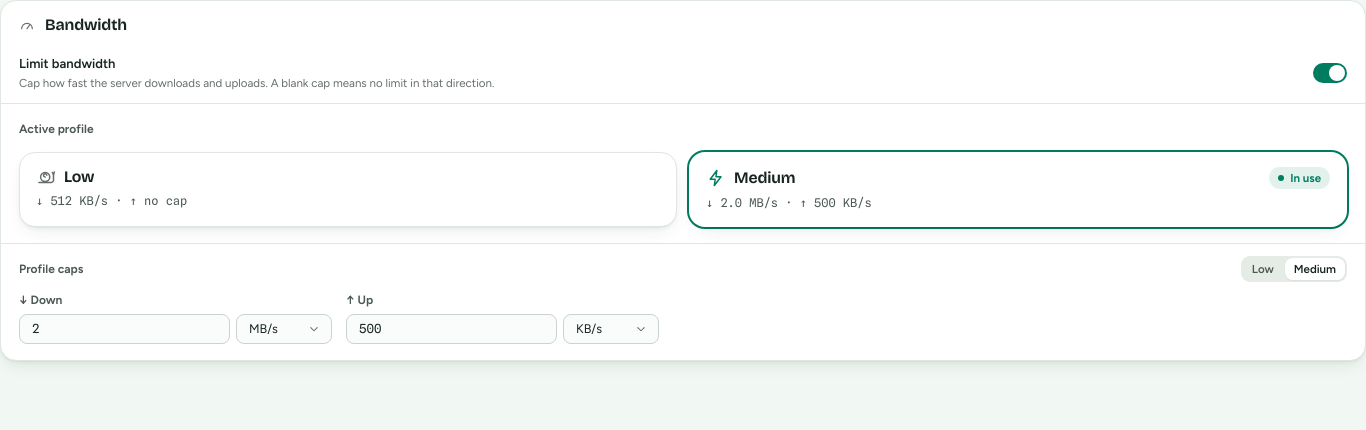
Test: BandwidthCard › saves edited caps of every profile as bytes per second, blank as unlimited
This screenshot has width=1366, height=430.
Expected: the button "Save" is not shown
Click the radio button labelled "Low" at (1263,269), box [1243,258,1283,280]
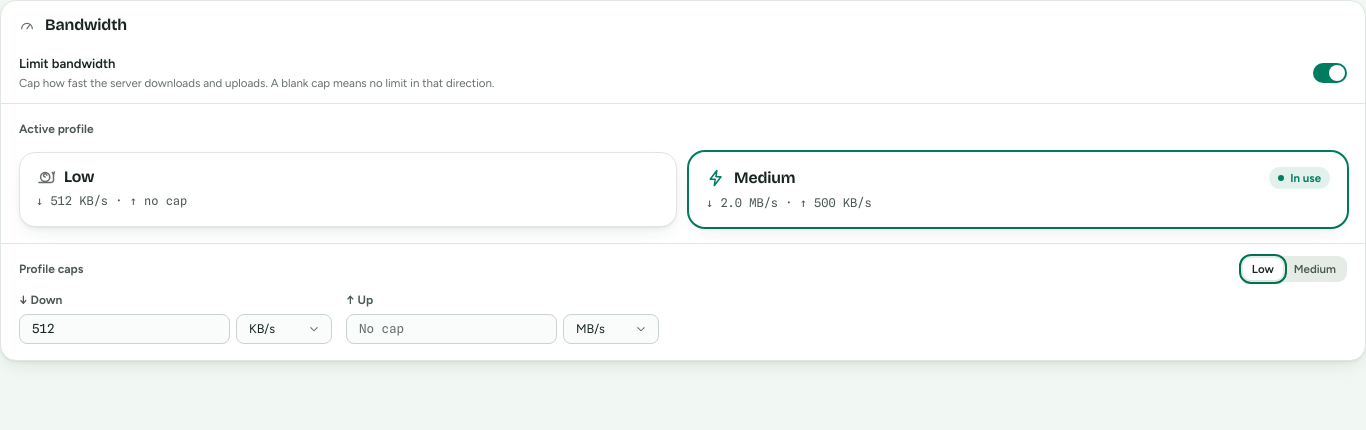
Clear the field named "Download cap for Low" at (124,329), box [32,315,217,343]
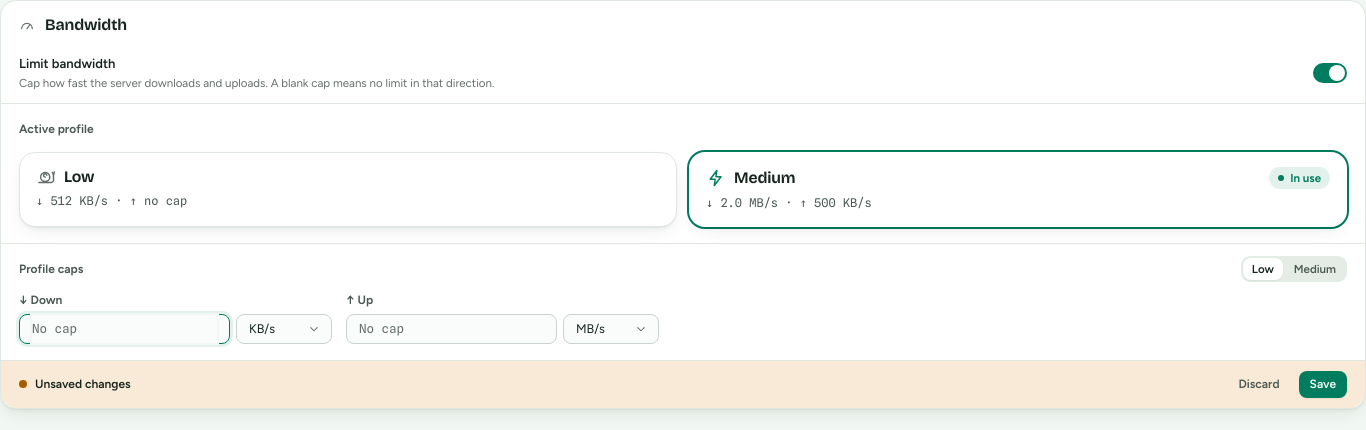
Expected: the text "Unsaved changes" is shown, [35,377,131,391]
Type "1.5" into the field named "Upload cap for Low" at (452,329), box [359,315,544,343]
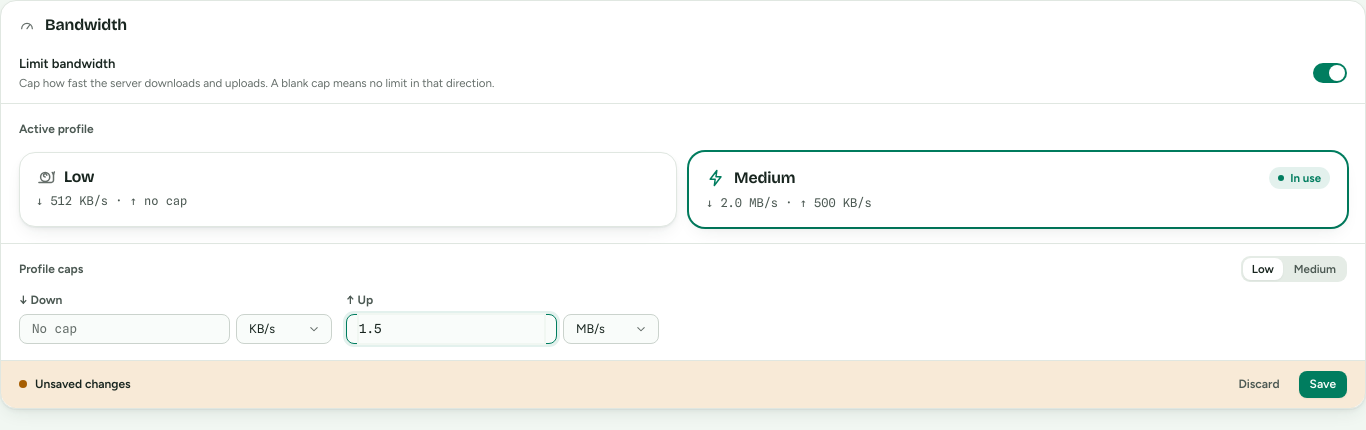
Select "MB/s" in the dropdown named "Unit for Upload cap for Low" at (611,329), box [564,315,658,343]
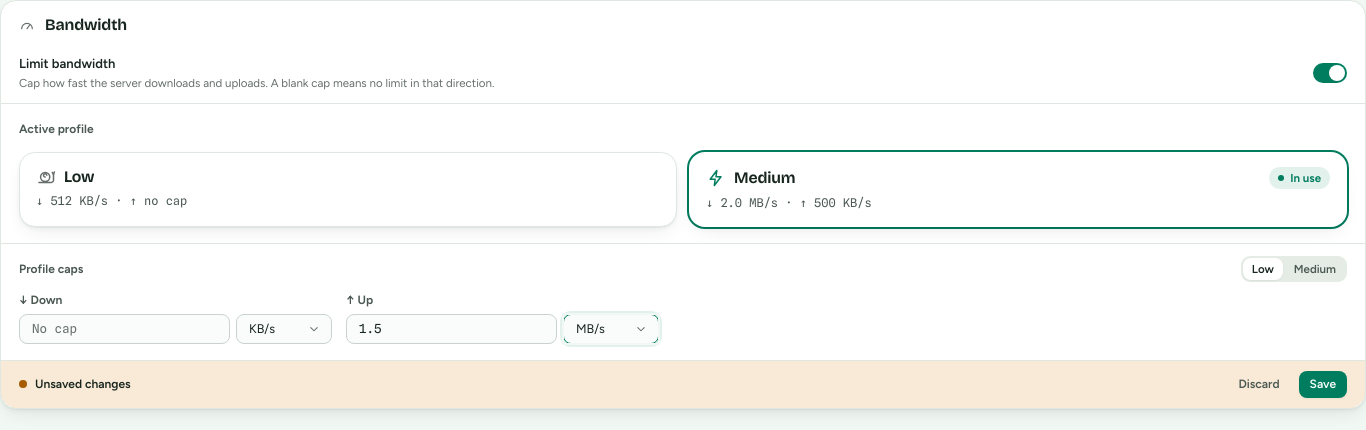
Click the button "Save" at (1323,384), box [1299,371,1347,398]
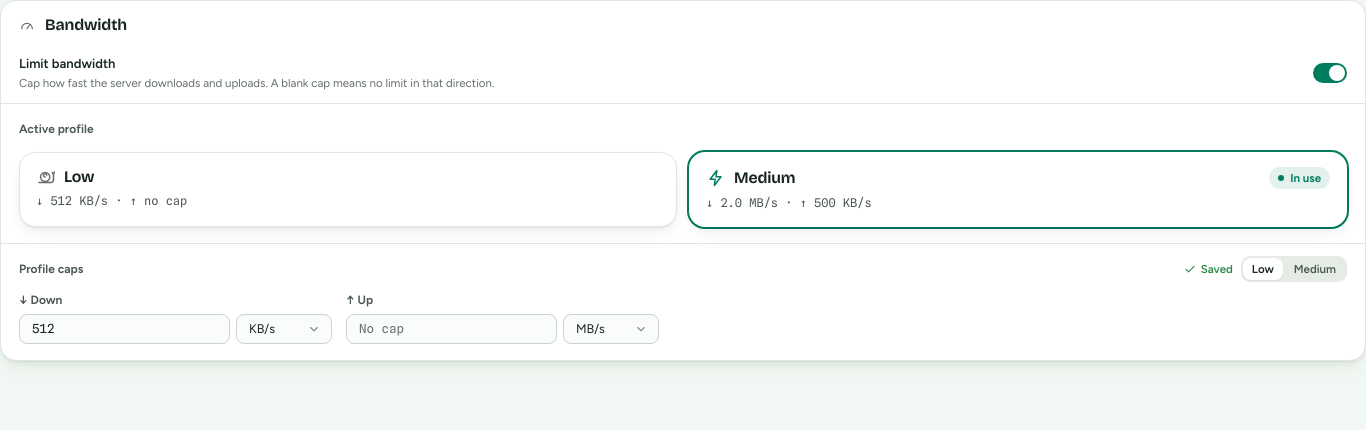
Expected: the text "Unsaved changes" is gone
